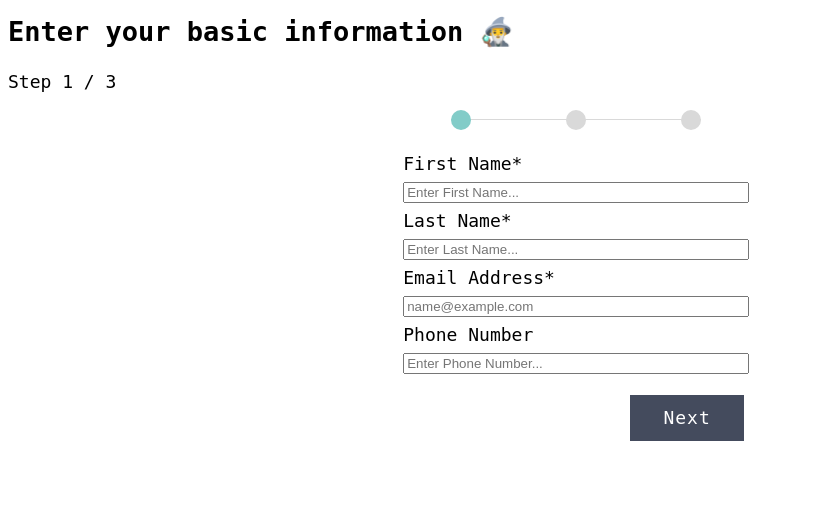
Test: last name is required
The width and height of the screenshot is (832, 526).
Type "yueer" into the field with test id "fname" at x=576, y=192, box left=403, top=182, right=749, bottom=203
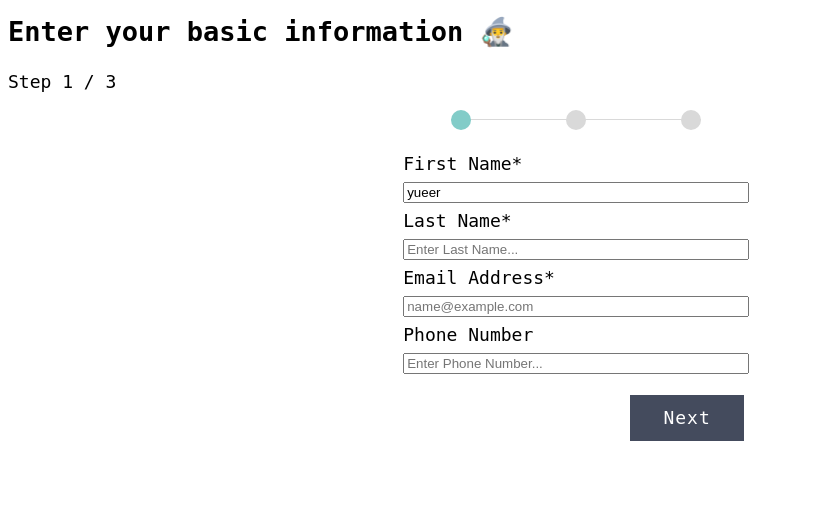
Type "yueer.chen0318@gmail.com" into the field with test id "email" at x=576, y=306, box left=403, top=296, right=749, bottom=317
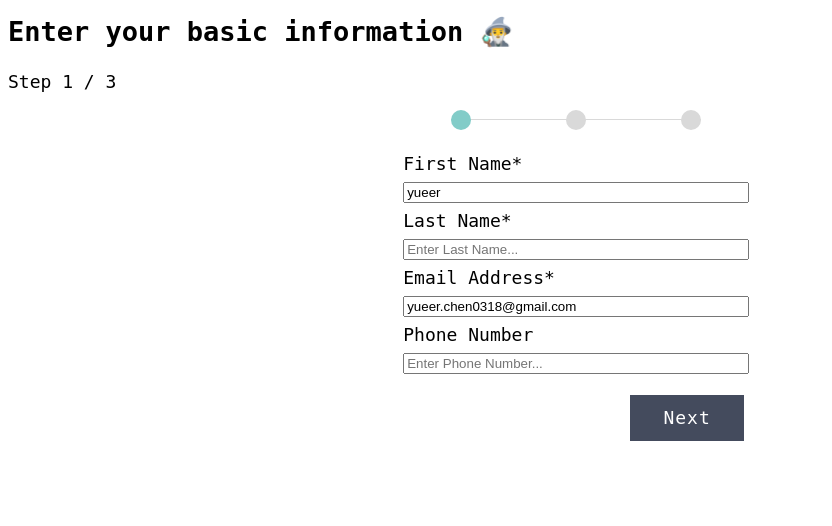
Click the button with test id "continue-first" at x=687, y=418, box left=630, top=395, right=744, bottom=441
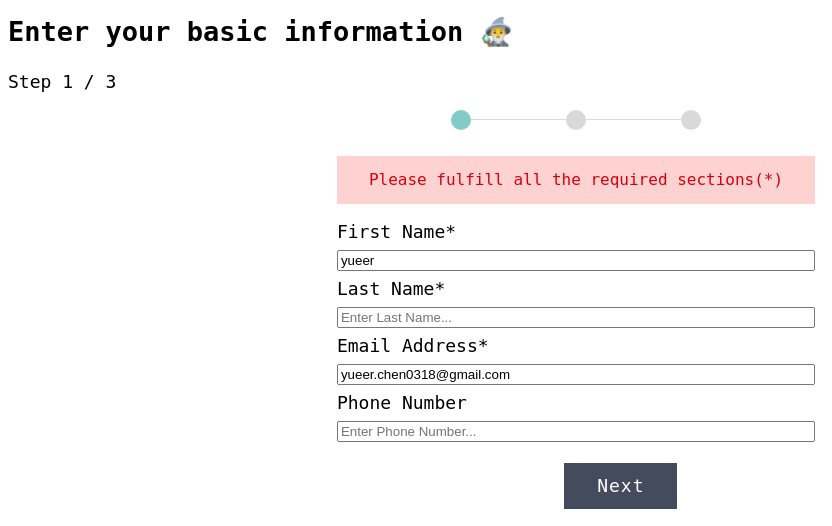
Now the text with test id "details-error" reads "Please fulfill all the required sections(*)", box left=369, top=170, right=783, bottom=189
